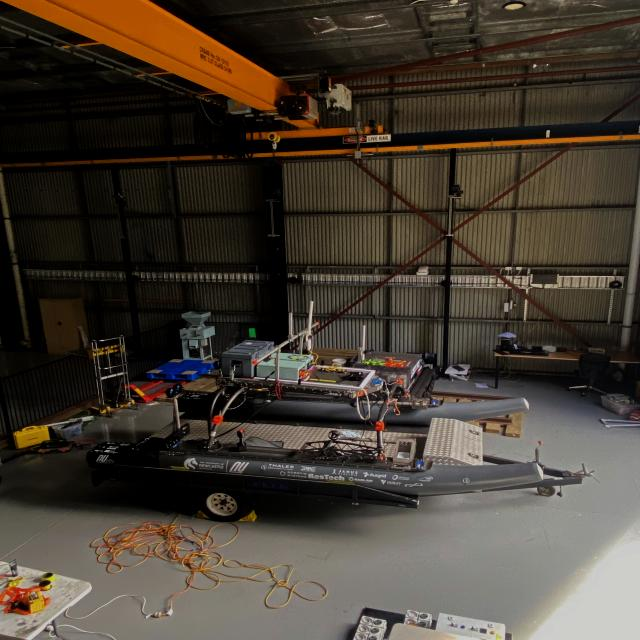matrix: (247, 326, 258, 338)
